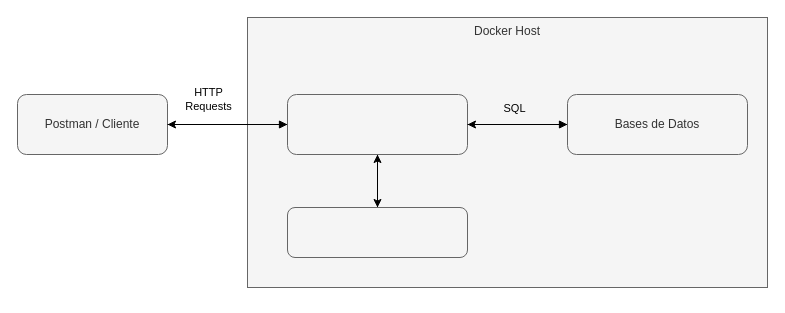
Some shapes in this 785 by 313 pixel diagram are drawn without their labels. Here are the shapes that lost their labels. From the top down, the box of each, then its label:
(286, 94, 468, 154): API REST Transferencias
(286, 206, 468, 258): Autenticación (JWT)
